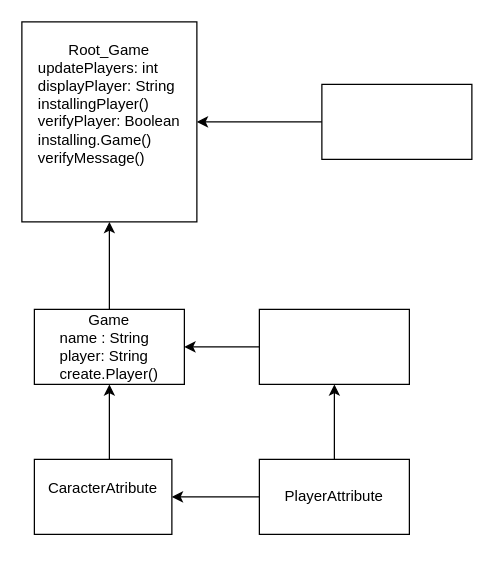
Some shapes in this 494 by 566 pixel diagram are drawn without their labels. The shapes that lost their labels are listed below. From the top down, each one's centre as x and y in pixels, then its label:
At (x=396, y=121): "Rpg_Player ID: int".
At (x=333, y=346): "Player id : int".
